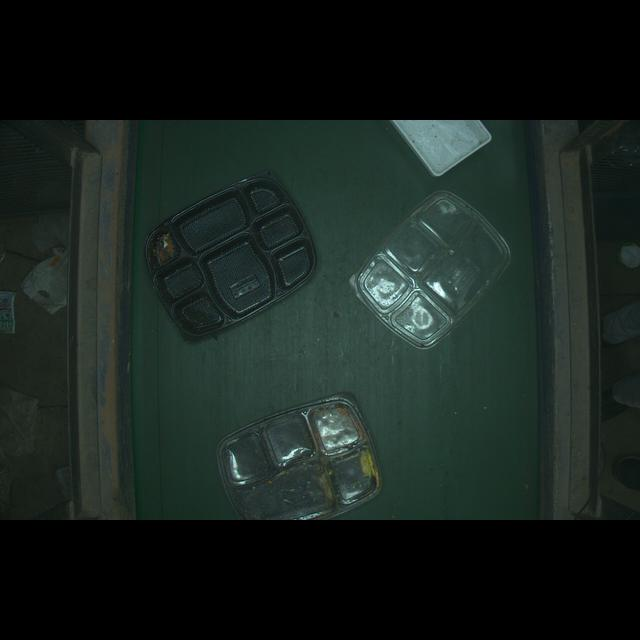mix rigid: (142, 154, 331, 341), (350, 170, 522, 361), (203, 384, 407, 523)
